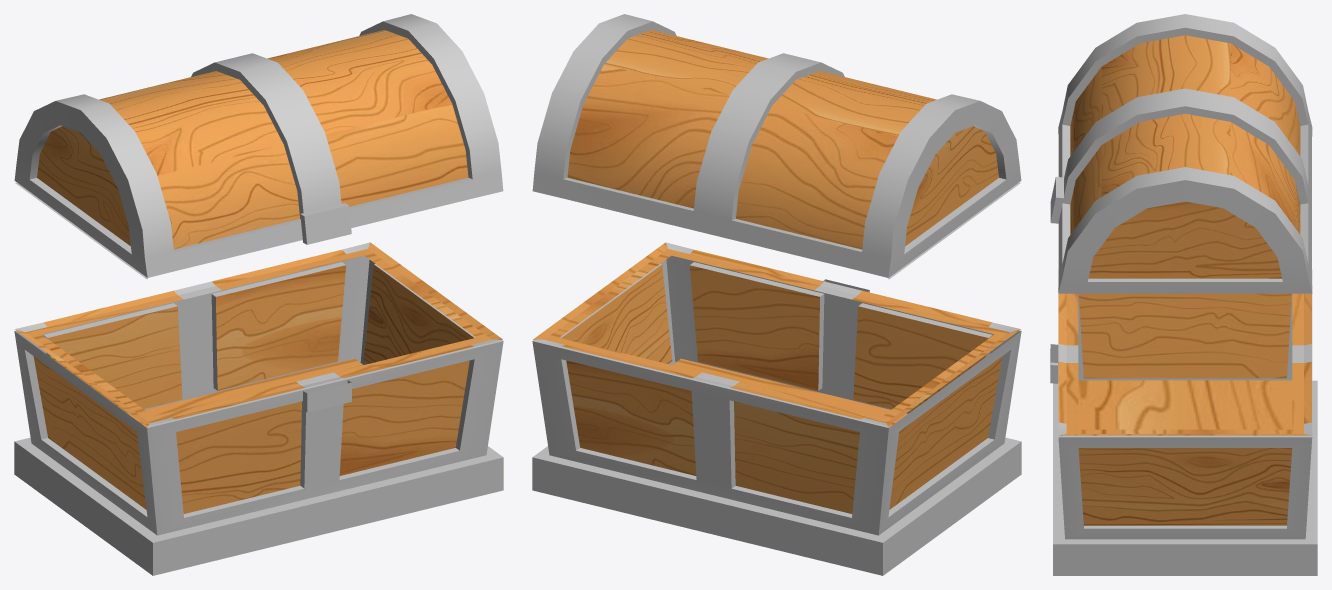
The model's file is OpendChest2.fbx.
3 views of the same model, side by side, from view 1: azimuth 30°, elevation 25°; view 2: azimuth 150°, elevation 25°; view 3: azimuth 270°, elevation 25° (orthographic). The views are drawn at different scales.
Parts seen in each view (by area): view 1: Low.002, Low.001; view 2: Low.002, Low.001; view 3: Low.002, Low.001.
Boxes of the visible parts, box(x1,y1,x2,y2) form: Low.002: box(14, 242, 503, 575); Low.001: box(14, 14, 503, 279); Low.002: box(532, 242, 1021, 575); Low.001: box(532, 14, 1021, 279); Low.002: box(1050, 269, 1317, 575); Low.001: box(1050, 14, 1312, 293).
Bounding box in the file's own units: 137 × 153 × 93.31.
